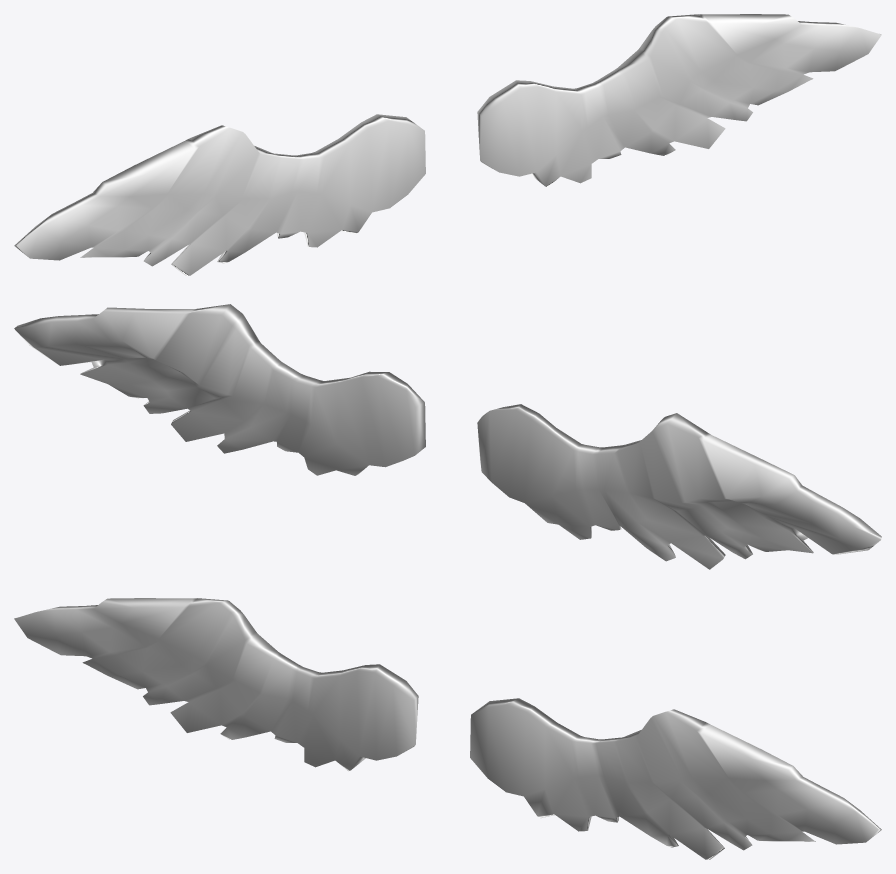
Rendered from wings3.fbx.
3 views of the same model, one above another, from view 1: azimuth 30°, elevation 25°; view 2: azimuth 150°, elevation 25°; view 3: azimuth 330°, elevation 25° (orthographic).
Visible parts, largest first — view 1: wing3_right1; view 2: wing3_right1; view 3: wing3_right1.
Boxes of the visible parts, left/top/right/bottom form: wing3_right1: left=14, top=14, right=881, bottom=275; wing3_right1: left=14, top=304, right=881, bottom=569; wing3_right1: left=14, top=598, right=881, bottom=859.
Bounding box in the file's own units: 8.53 × 1.37 × 0.2692.
